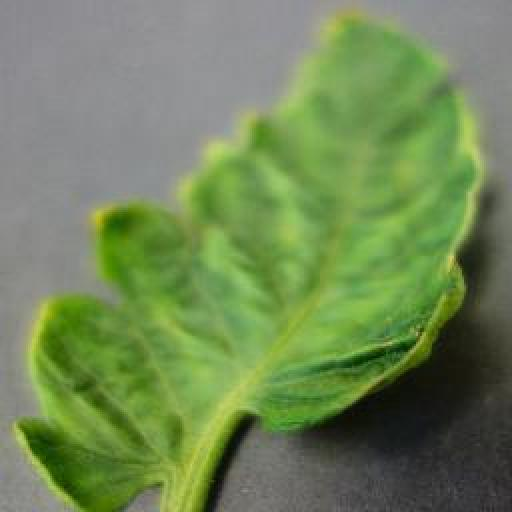disease_tomato: (18, 9, 486, 512)
